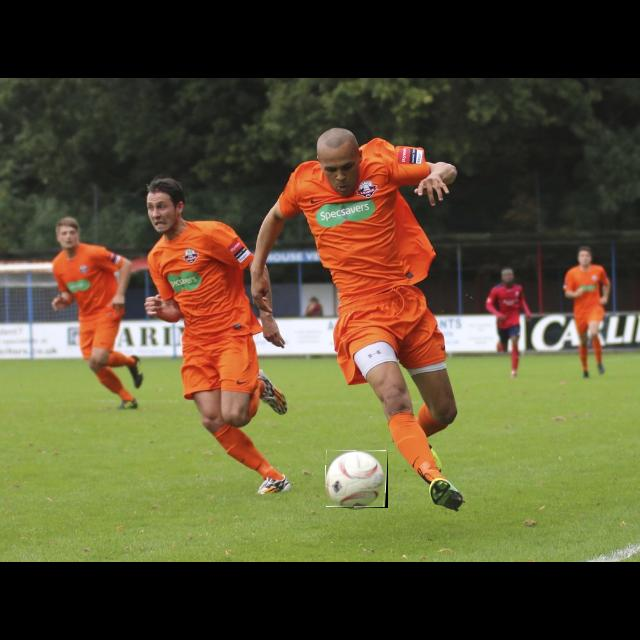Football: (326, 450, 388, 508)
